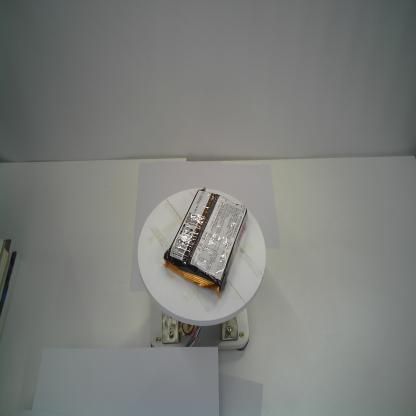Dessert: (162, 186, 250, 297)
